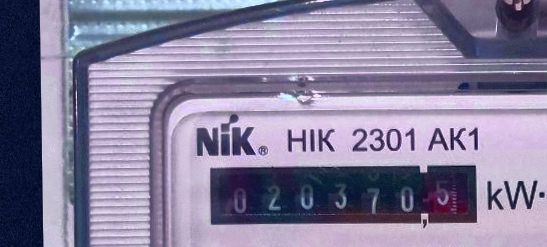0: (398, 183, 416, 213), (231, 184, 248, 213), (299, 181, 314, 209)
2: (265, 181, 283, 212)
3: (332, 179, 348, 209)
5: (434, 176, 452, 207)
7: (365, 185, 380, 215)
screen: (202, 156, 486, 235)
